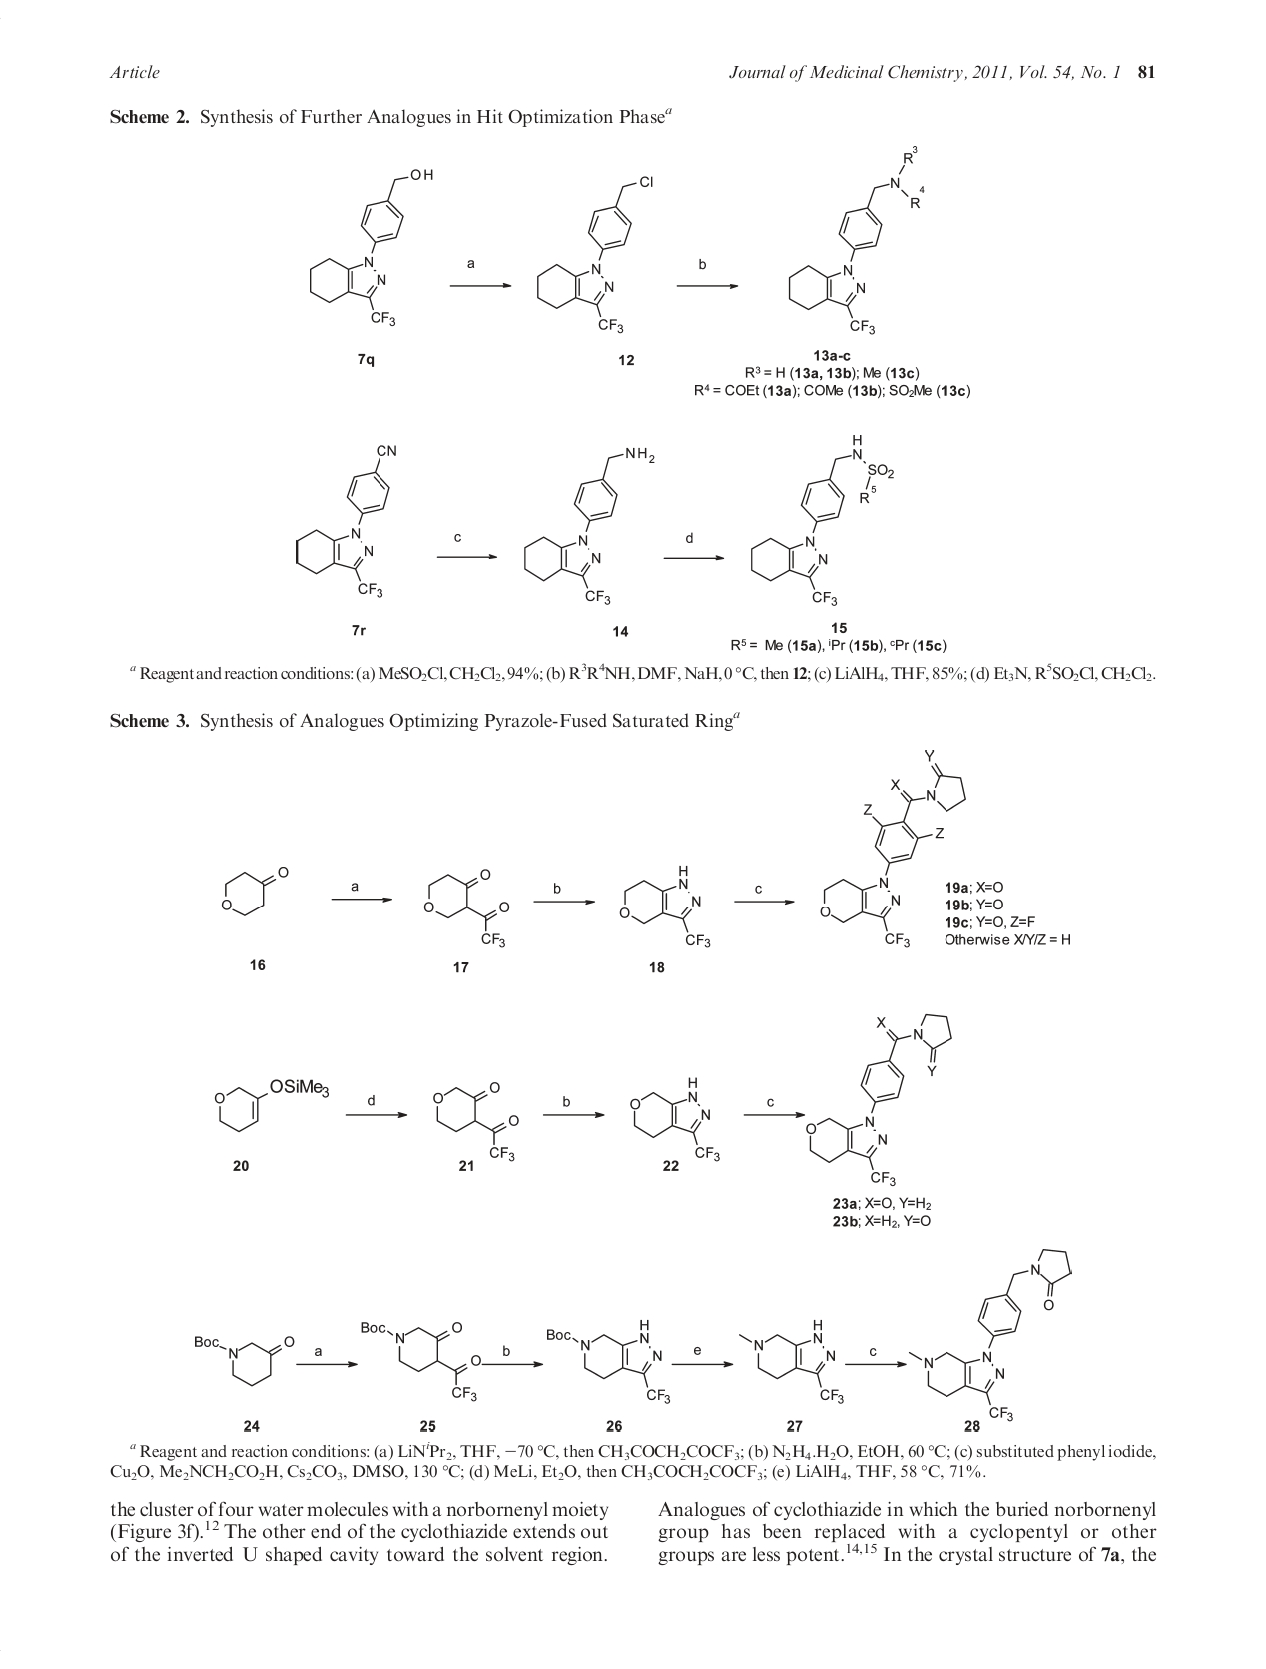exist_molecular: (907, 1243, 1075, 1422), (819, 747, 967, 950), (785, 142, 928, 336), (802, 1009, 955, 1192), (746, 431, 895, 610), (520, 443, 656, 609), (306, 165, 434, 328), (535, 172, 656, 334), (291, 442, 398, 601), (358, 1315, 484, 1407), (544, 1321, 673, 1410), (735, 1317, 848, 1404), (616, 863, 715, 956), (626, 1075, 723, 1162), (420, 867, 515, 950), (432, 1079, 527, 1161), (210, 1076, 332, 1136), (191, 1330, 298, 1388), (219, 860, 293, 924)
